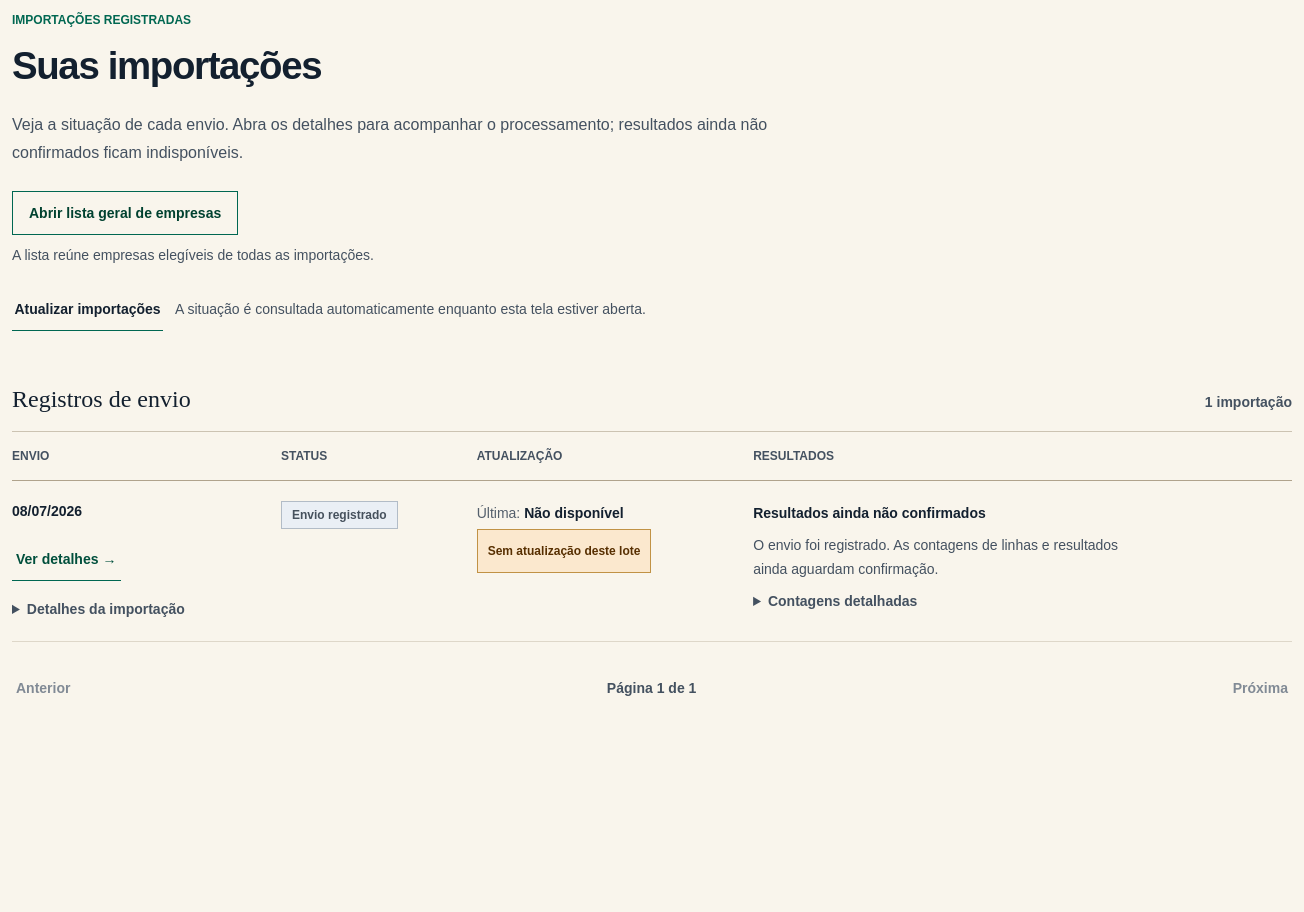
Scenario: batch list page › keeps the batch identifier and fact basis in closed details instead of a main table column
Expected: the text "empresaqui_2026-07-08T12:00:00.000Z" is not shown
Click the heading "Detalhes da importação".
click(106, 609)  # box left=27, top=601, right=185, bottom=617
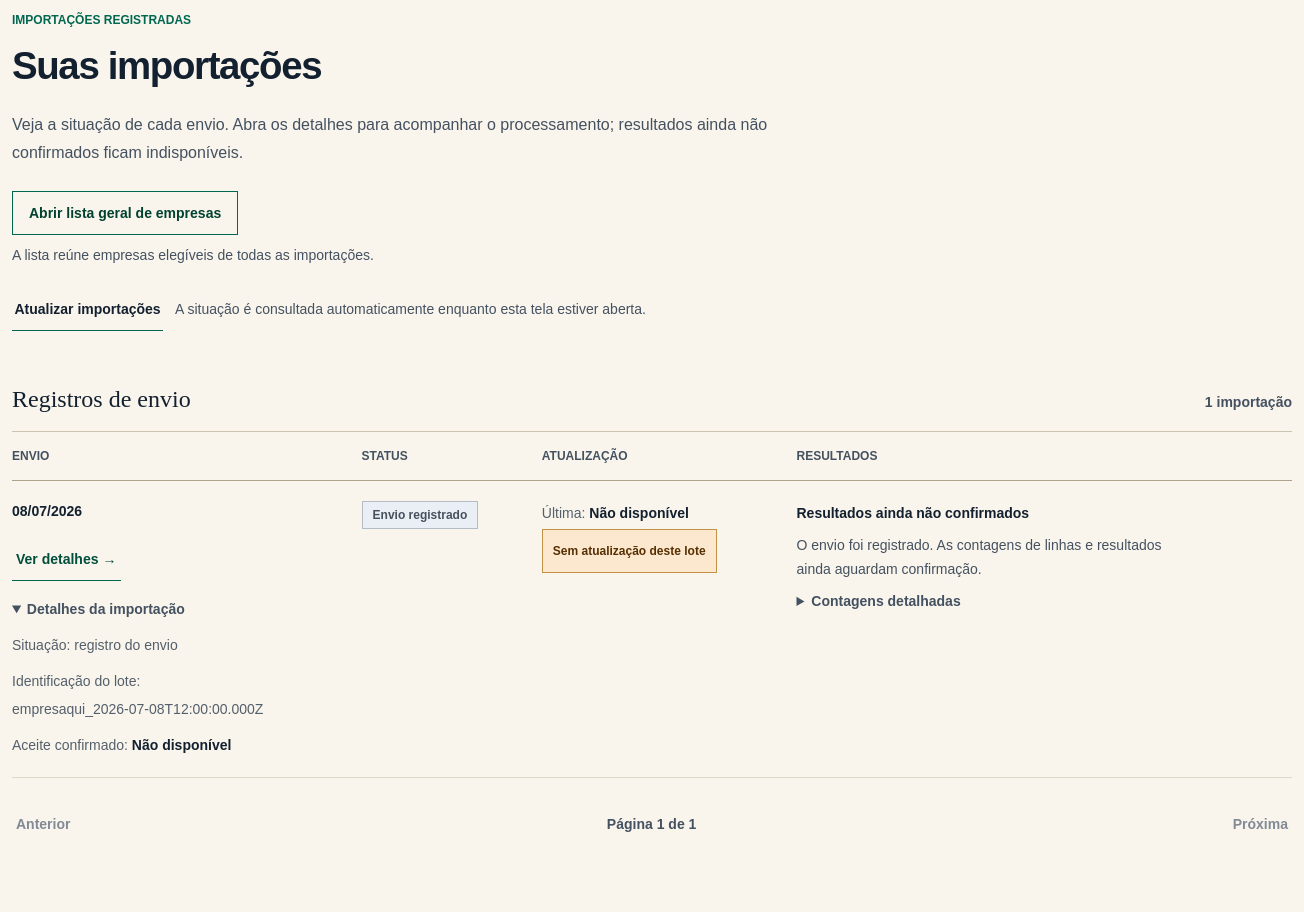
Result: the text "empresaqui_2026-07-08T12:00:00.000Z" is shown at left=12, top=697, right=268, bottom=721
